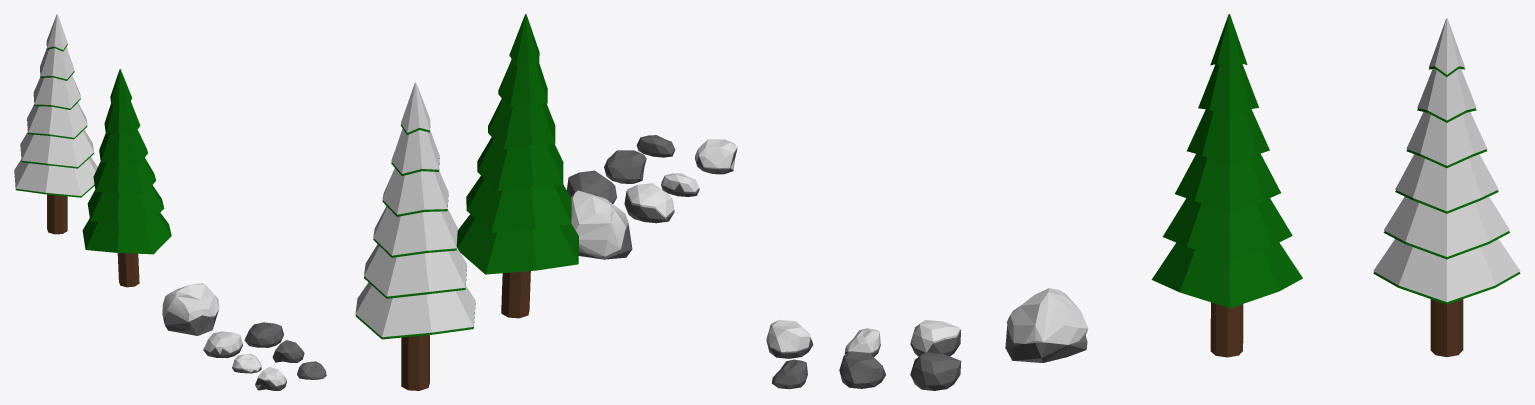
File: Snow_Trees_Rocks.fbx
3 renders of one model, left to right at view 1: azimuth 30°, elevation 25°; view 2: azimuth 150°, elevation 25°; view 3: azimuth 270°, elevation 25°, orthographic. The views are drawn at different scales.
Visible parts, largest first — view 1: polySurface22, polySurface25, polySurface52, polySurface51, polySurface36, polySurface23, polySurface24, polySurface21, polySurface30, polySurface50, polySurface49, polySurface32 (+1 smaller); view 2: polySurface22, polySurface25, polySurface52, polySurface23, polySurface24, polySurface21, polySurface50, polySurface36, polySurface34, polySurface30, polySurface49, polySurface31 (+2 smaller); view 3: polySurface22, polySurface25, polySurface52, polySurface23, polySurface21, polySurface24, polySurface36, polySurface51, polySurface50, polySurface34, polySurface30, polySurface49 (+1 smaller).
Boxes of the visible parts, box(x1,y1,x2,y2) form: polySurface22: box(82, 69, 171, 254); polySurface25: box(14, 14, 97, 195); polySurface52: box(162, 283, 219, 321); polySurface51: box(163, 310, 218, 335); polySurface36: box(244, 322, 284, 347); polySurface23: box(47, 194, 67, 234); polySurface24: box(14, 44, 94, 197); polySurface21: box(117, 253, 139, 287); polySurface30: box(204, 331, 242, 353); polySurface50: box(272, 340, 304, 362); polySurface49: box(297, 361, 326, 379); polySurface32: box(232, 353, 260, 371); polySurface22: box(456, 14, 578, 274); polySurface25: box(355, 82, 475, 337); polySurface52: box(571, 190, 628, 256); polySurface23: box(401, 335, 429, 390); polySurface24: box(355, 124, 475, 339); polySurface21: box(501, 271, 530, 318); polySurface50: box(604, 150, 646, 183); polySurface36: box(567, 170, 616, 203); polySurface34: box(695, 139, 737, 169); polySurface30: box(627, 183, 673, 217); polySurface49: box(636, 135, 675, 157); polySurface31: box(624, 191, 674, 223); polySurface22: box(1151, 14, 1302, 308); polySurface25: box(1373, 18, 1520, 301); polySurface52: box(1006, 288, 1088, 344); polySurface23: box(1430, 299, 1463, 357); polySurface21: box(1210, 302, 1243, 357); polySurface24: box(1373, 66, 1520, 304); polySurface36: box(910, 352, 961, 390); polySurface51: box(1005, 326, 1087, 362); polySurface50: box(839, 351, 885, 388); polySurface34: box(766, 319, 812, 352); polySurface30: box(910, 320, 960, 352); polySurface49: box(772, 359, 807, 389).
Bounding box in the file's own units: 2.48 × 5.04 × 10.34.
